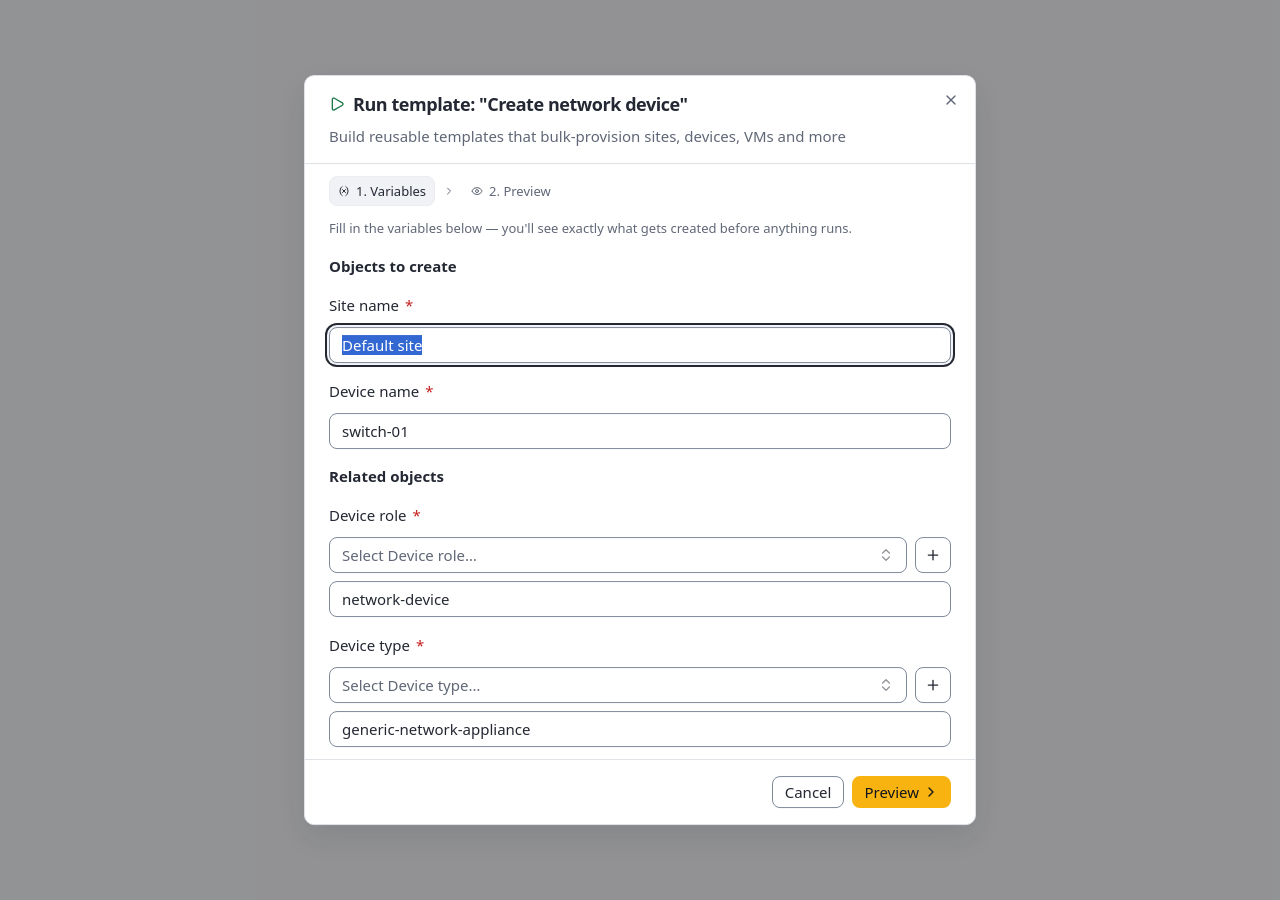
Test: TemplateRunDialog reference variables › associates safe server field errors and focuses the rejected field after run
The width and height of the screenshot is (1280, 900).
Click the button "Preview": (902, 792) [852, 776, 951, 808]
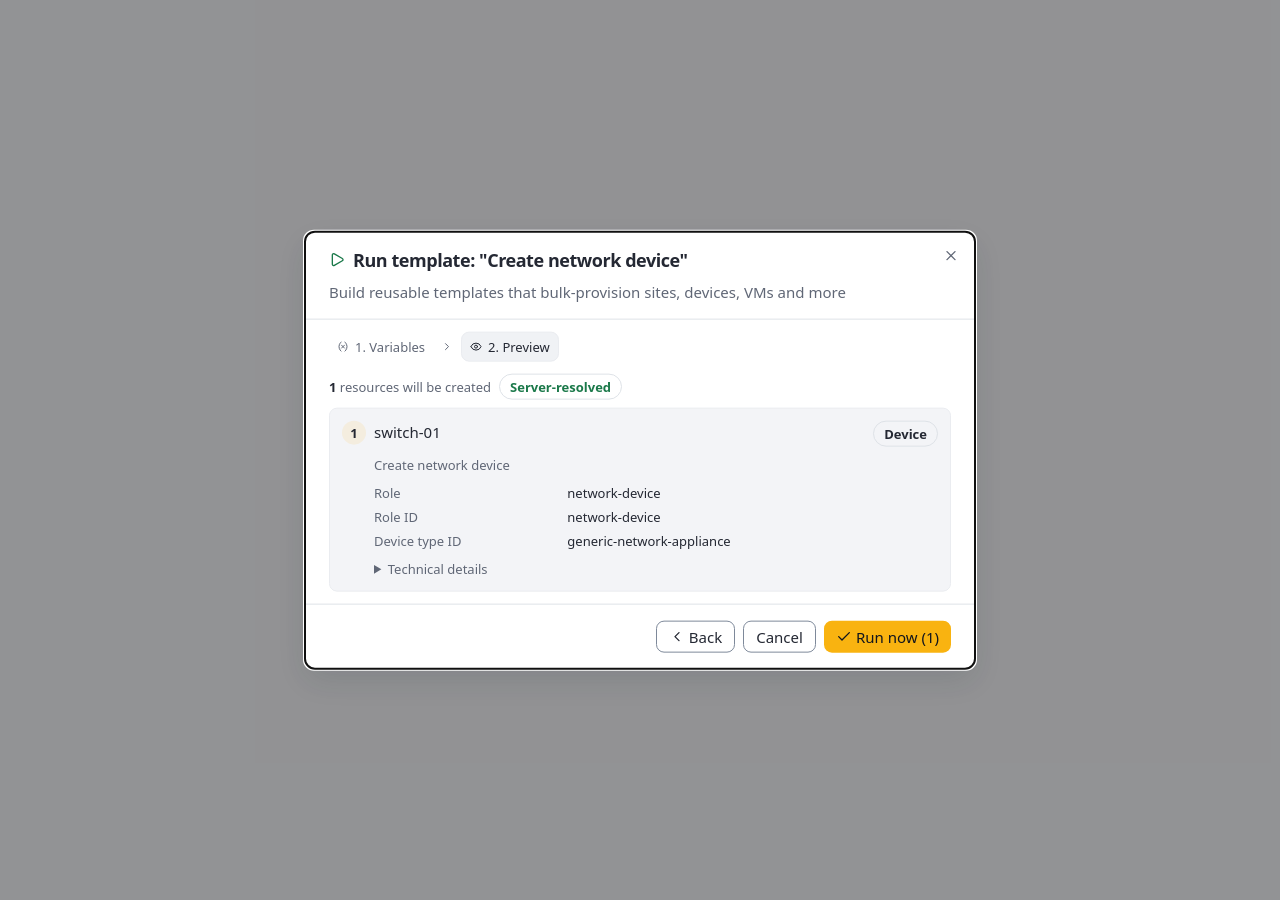
Click the button "Run now (1)": (887, 636) [824, 620, 951, 652]
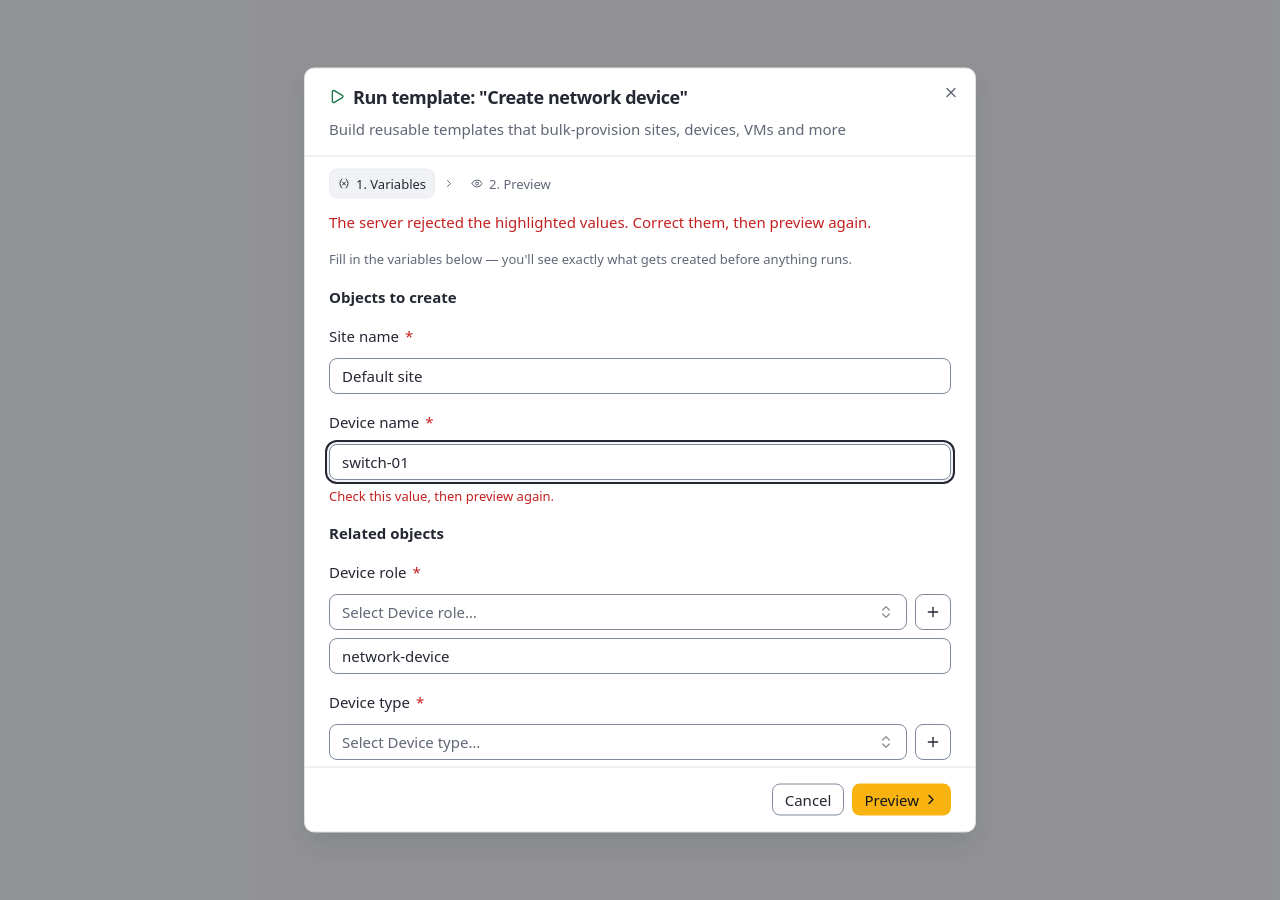
expect the button "Run now" is gone: met
